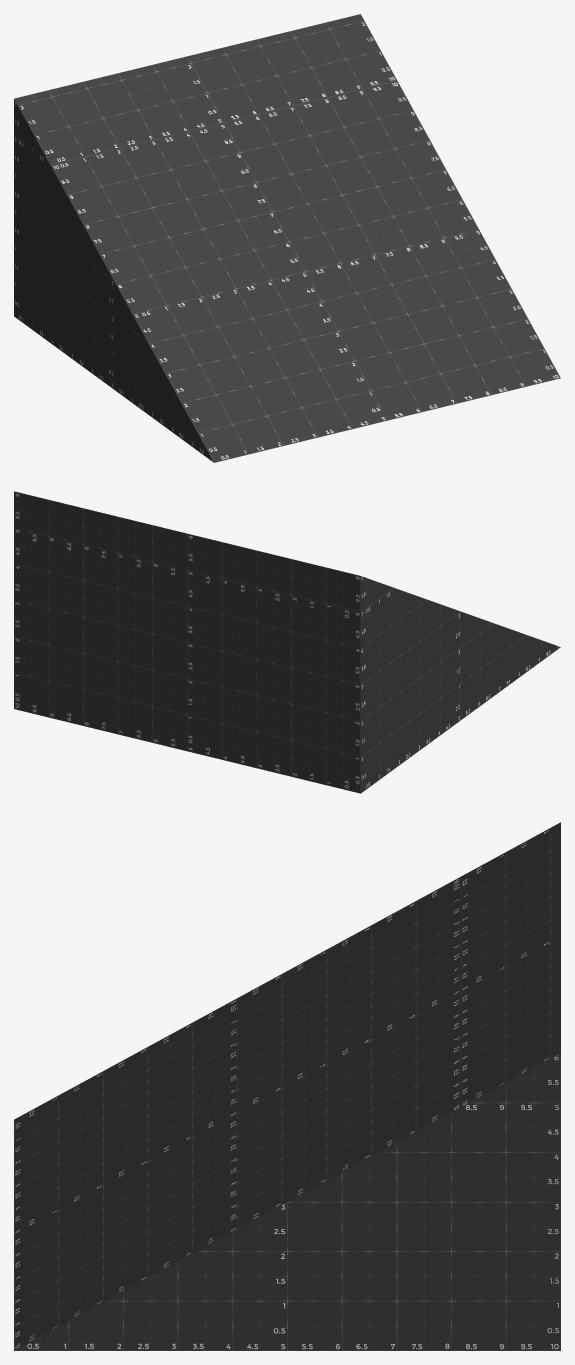
The model's file is WedgeFloor_06.fbx.
The picture shows the model from 3 angles, top to bottom: view 1: azimuth 30°, elevation 25°; view 2: azimuth 150°, elevation 25°; view 3: azimuth 270°, elevation 25°; orthographic projection. The views are drawn at different scales.
Visible parts, largest first — view 1: WedgeFloor_06; view 2: WedgeFloor_06; view 3: WedgeFloor_06.
Boxes of the visible parts, bbox=[...] form: WedgeFloor_06: bbox=[14, 14, 560, 462]; WedgeFloor_06: bbox=[14, 491, 560, 793]; WedgeFloor_06: bbox=[14, 822, 560, 1350].
Bounding box in the file's own units: 10 × 6 × 10.
